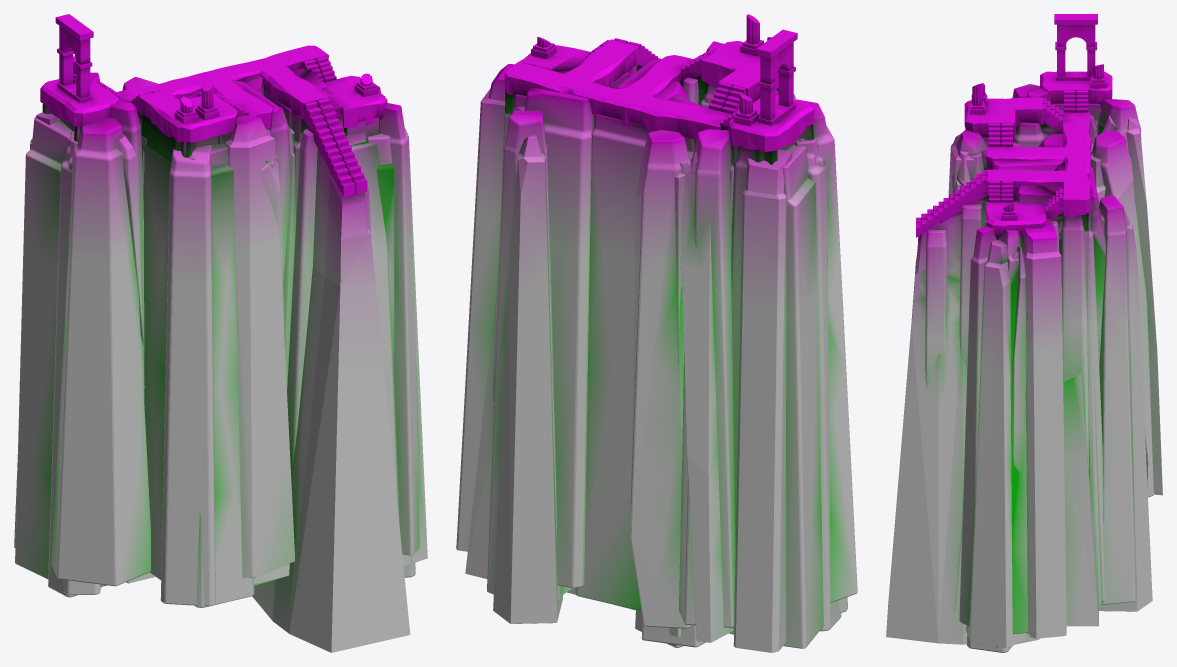
The model's file is level.glb.
3 renders of one model, left to right at view 1: azimuth 30°, elevation 25°; view 2: azimuth 150°, elevation 25°; view 3: azimuth 270°, elevation 25°, orthographic. The views are drawn at different scales.
Parts seen in each view (by area): view 1: rock, marble; view 2: rock, marble; view 3: rock, marble.
Boxes of the visible parts, x1=… form: rock: x1=14, y1=58, x2=427, y2=652; marble: x1=40, y1=14, x2=387, y2=197; rock: x1=456, y1=41, x2=857, y2=652; marble: x1=504, y1=14, x2=814, y2=151; rock: x1=886, y1=84, x2=1162, y2=652; marble: x1=916, y1=14, x2=1112, y2=237.
Bounding box in the file's own units: 13.55 × 21.37 × 10.29.
